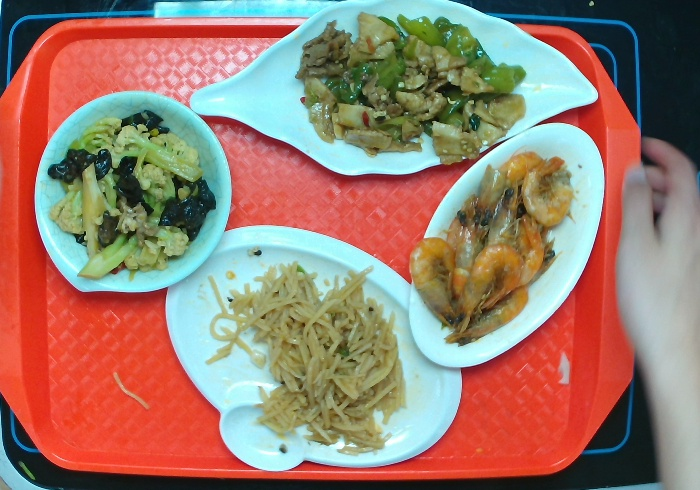RJxy-Bai_Se_Tuo_Yuan: (407, 118, 606, 370)
RJxy-Shu_Ye_Pan: (189, 1, 597, 179)
RJxy-Xiao_Jiao_Yuan_Wan: (30, 85, 233, 297)
RJxy-Zhan_Liao_Pan: (167, 225, 461, 472)
